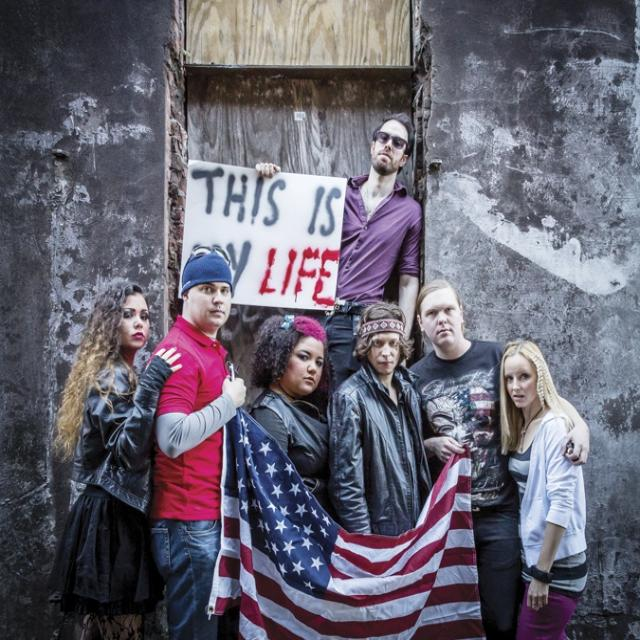body: (50, 274, 186, 639), (252, 113, 423, 395), (406, 276, 524, 636), (148, 243, 248, 640), (499, 337, 588, 640), (324, 300, 434, 538), (247, 312, 344, 528)
